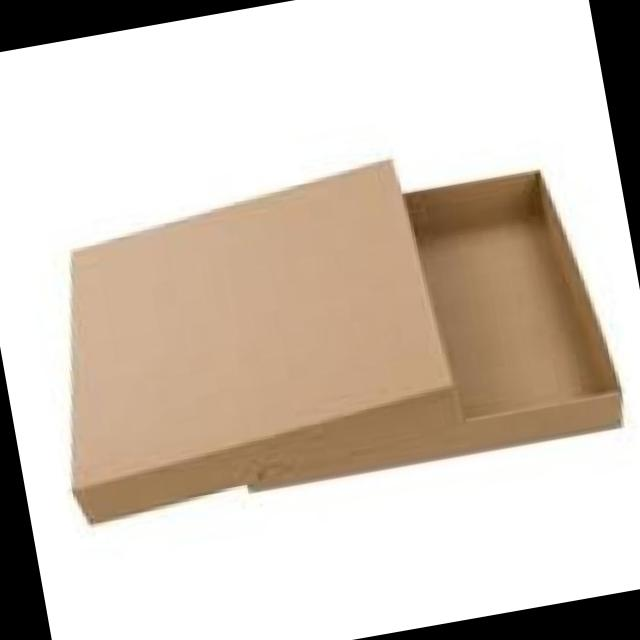cardboard paper: (73, 159, 460, 519), (249, 169, 625, 492)
